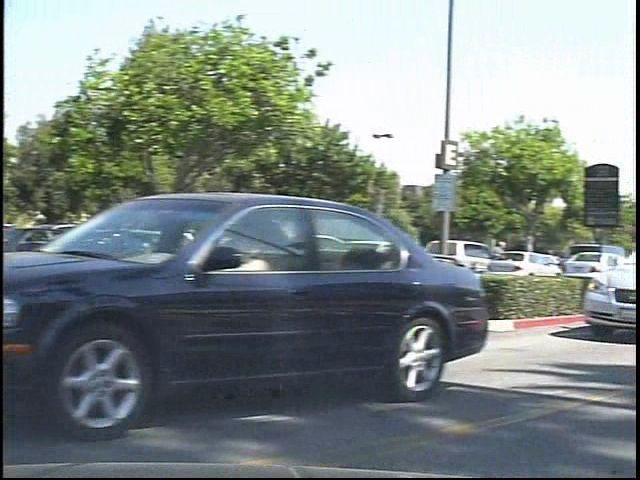person: (498, 232, 525, 287)
